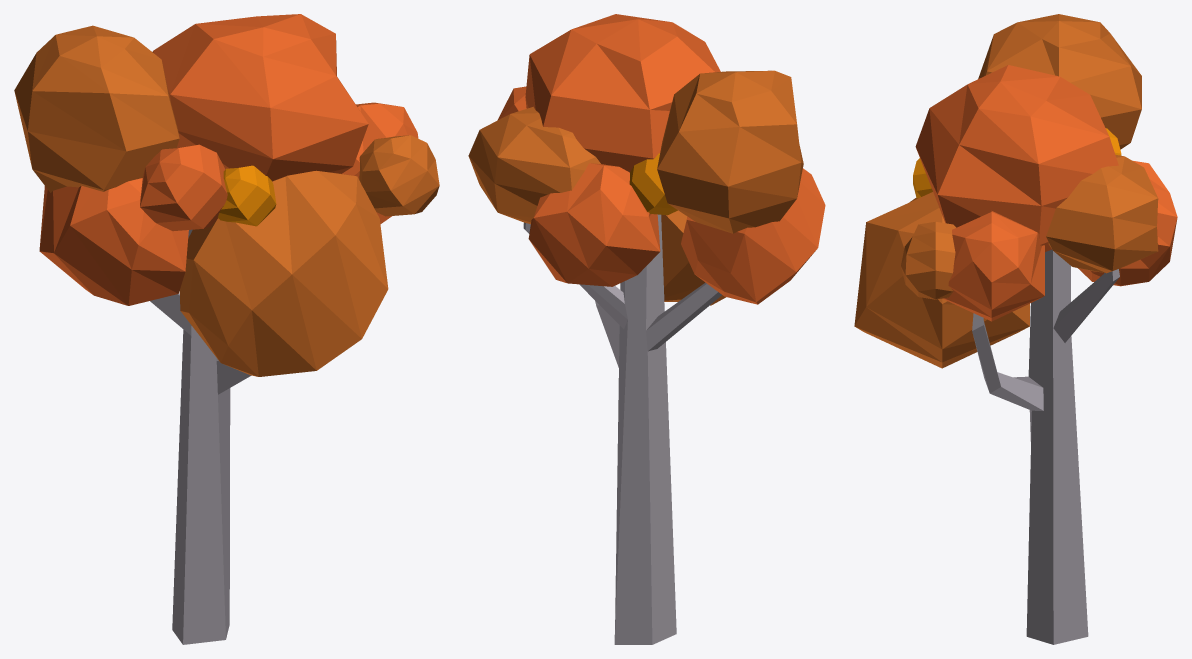
The model's file is fbxorangetree.fbx.
3 renders of one model, left to right at view 1: azimuth 30°, elevation 25°; view 2: azimuth 150°, elevation 25°; view 3: azimuth 270°, elevation 25°, orthographic. The views are drawn at different scales.
Parts seen in each view (by area): view 1: polySurface222; view 2: polySurface222; view 3: polySurface222.
Part boxes in pixels (x1,y1,x2,y2): polySurface222: (14,14,439,644); polySurface222: (468,14,825,644); polySurface222: (854,14,1177,644).
Bounding box in the file's own units: 16.47 × 27.63 × 14.3.
